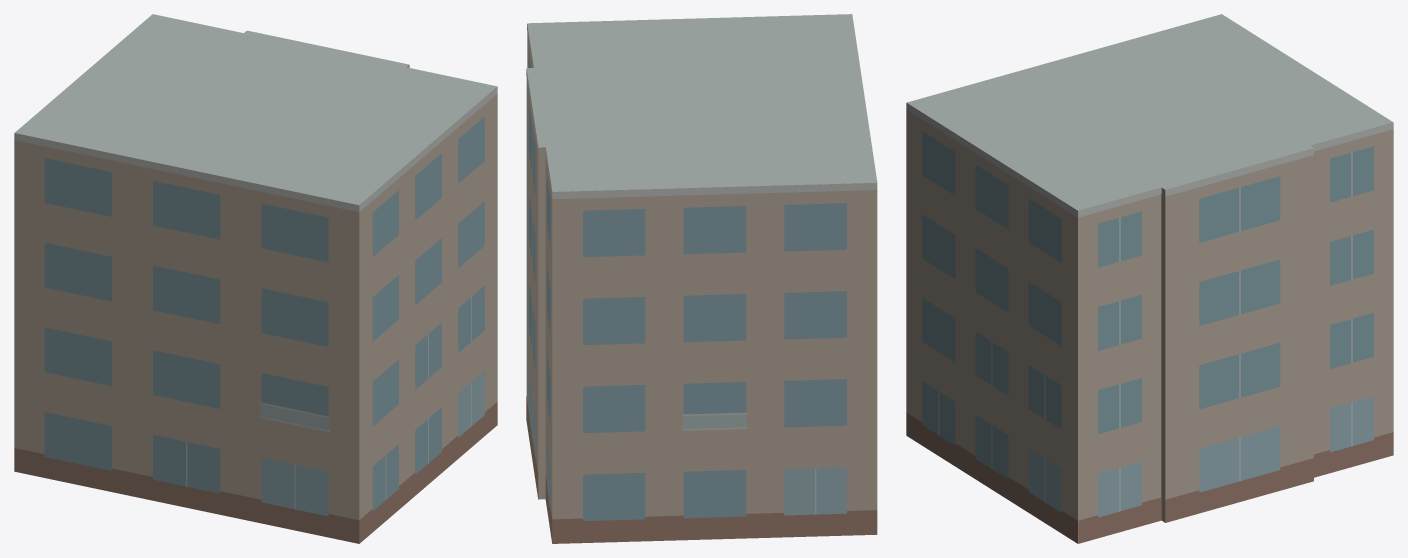
The model's file is survey-upis-32635402.glb.
The picture shows the model from 3 angles, left to right: view 1: azimuth 30°, elevation 25°; view 2: azimuth 150°, elevation 25°; view 3: azimuth 270°, elevation 25°; orthographic projection. The views are drawn at different scales.
Visible parts, largest first — view 1: survey-upis-32635402.tmp; view 2: survey-upis-32635402.tmp; view 3: survey-upis-32635402.tmp.
Boxes of the visible parts, box(x1,y1,x2,y2) form: survey-upis-32635402.tmp: box(14, 14, 497, 543); survey-upis-32635402.tmp: box(526, 14, 877, 543); survey-upis-32635402.tmp: box(906, 14, 1393, 543).
Bounding box in the file's own units: 15.04 × 11.86 × 15.73.
